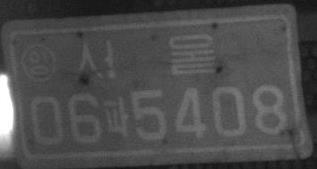0: (211, 86, 247, 138), (29, 93, 62, 146)
4: (173, 86, 206, 140)
5: (129, 88, 166, 142)
6: (67, 92, 102, 143)
8: (252, 82, 288, 136)
서울_D: (72, 32, 217, 83)
영: (20, 42, 57, 83)
파: (102, 96, 130, 137)
